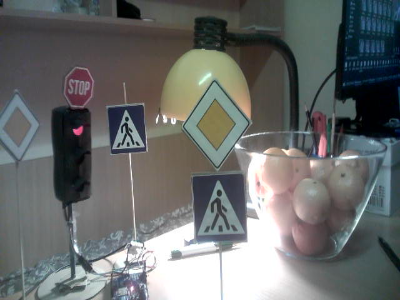crosswalk: (193, 175, 247, 243), (107, 105, 148, 152)
priority_road: (184, 83, 249, 169), (1, 91, 40, 157)
stop: (65, 68, 93, 105)
trafficlight_red: (63, 112, 92, 202)
